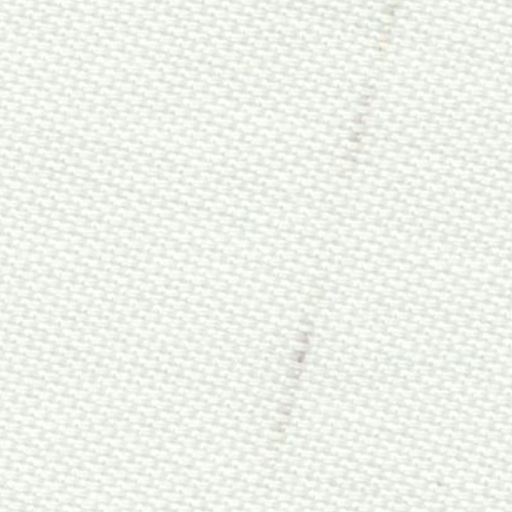WuZi: (256, 6, 412, 450)
